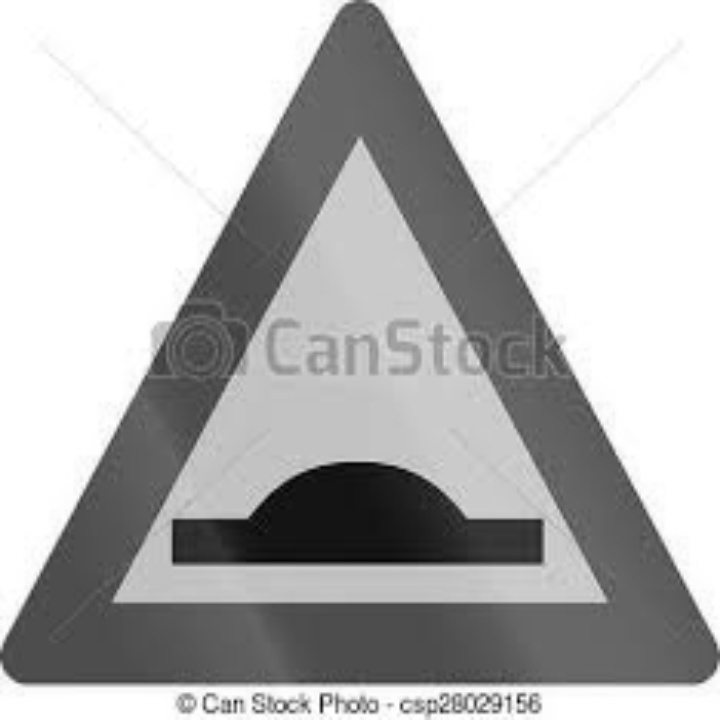bump: (159, 446, 553, 584)
